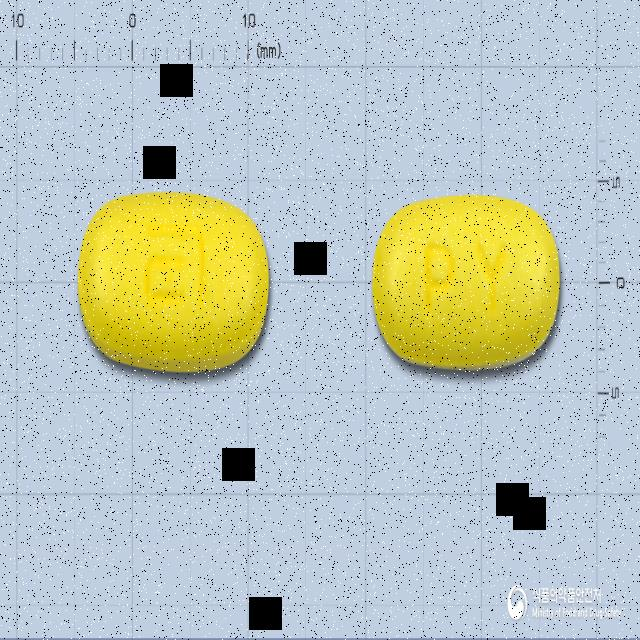Pilocin Tab: (77, 193, 269, 373), (372, 198, 562, 370)
